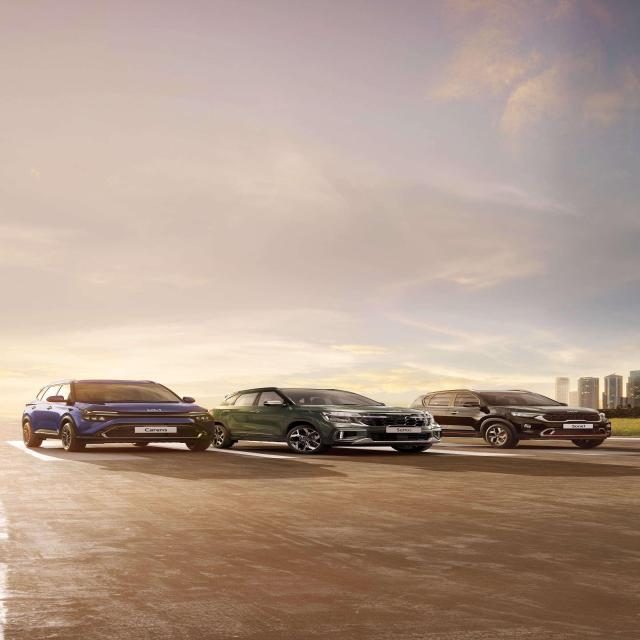cars2: (14, 370, 222, 457), (229, 382, 446, 461)
cars3: (423, 369, 625, 453)
